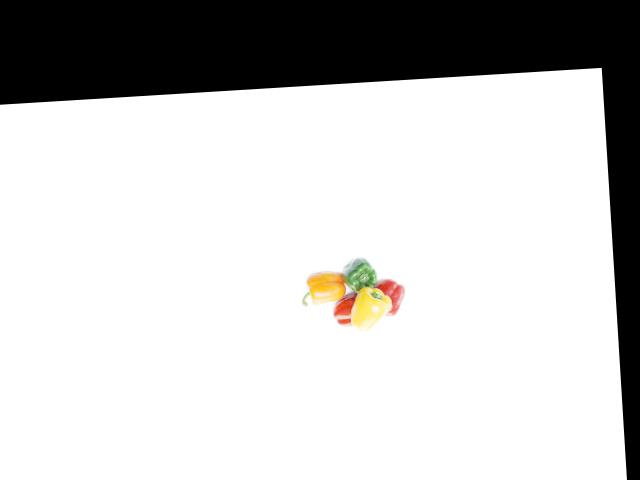bell_pepper: (339, 251, 386, 301)
